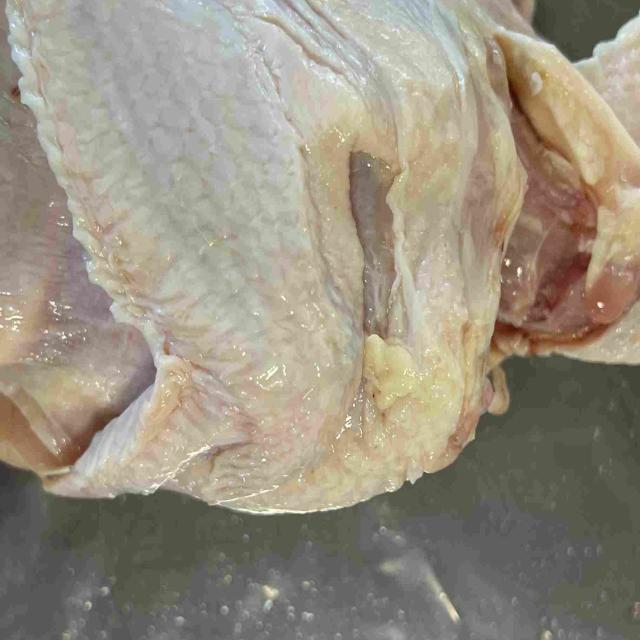wing: (2, 0, 366, 499)
